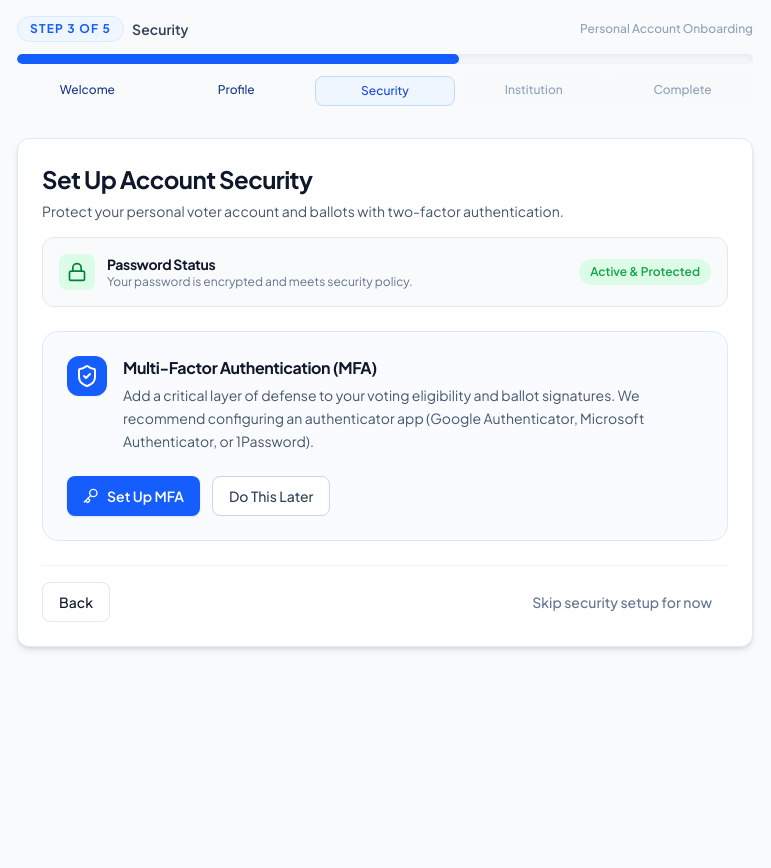
PersonalOnboardingPage Multi-Step Wizard › handles MFA authenticator setup and verification in Step 3
The image size is (771, 868).
Expected: the heading "Set Up Account Security" is shown, [42,164,312,194]
Click the button "Set Up MFA" at (134, 496), box [67,476,200,516]
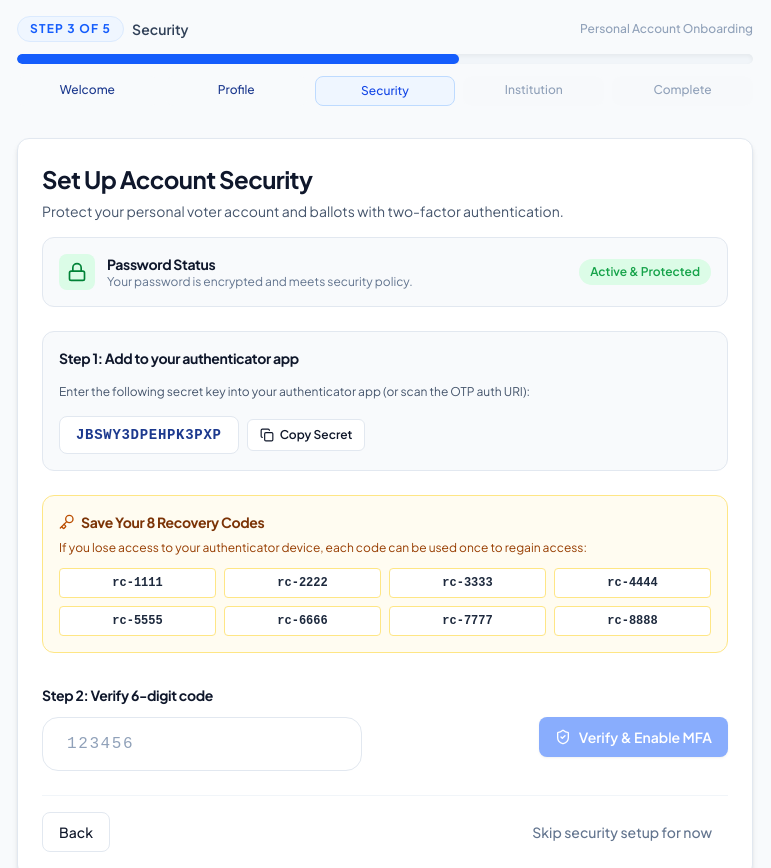
Result: the text "JBSWY3DPEHPK3PXP" is shown at [59,416,239,454]
Result: the text "rc-1111" is shown at [59,568,216,598]
Result: the text "rc-8888" is shown at [554,606,711,636]
Type "654321" into the field with placeholder "123456" at (202, 744), box [42,717,362,771]
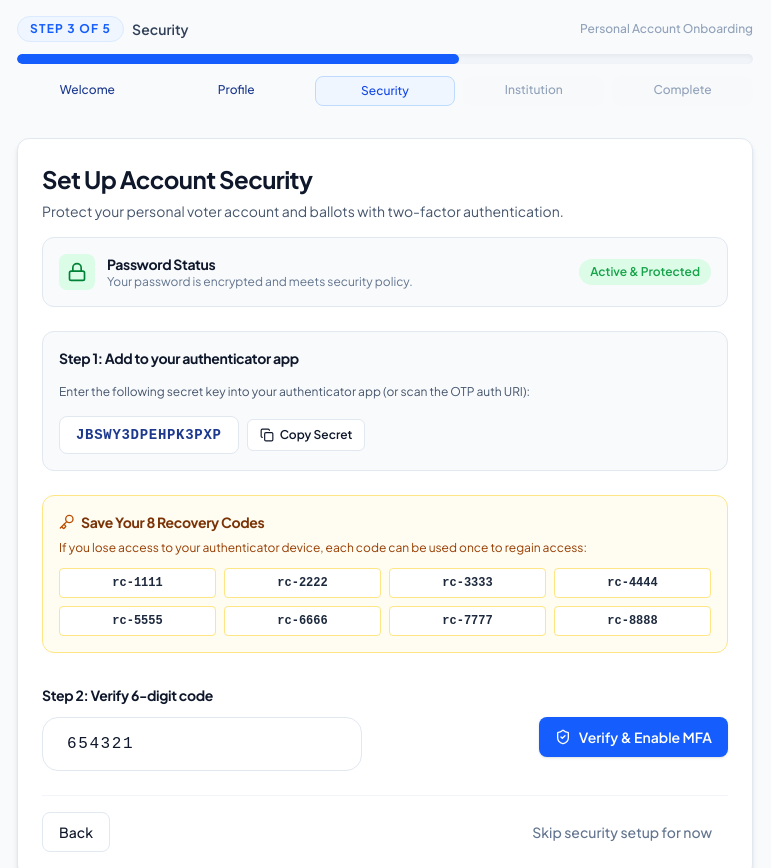
Click the button "Verify & Enable MFA" at (633, 737), box [539,717,728,757]
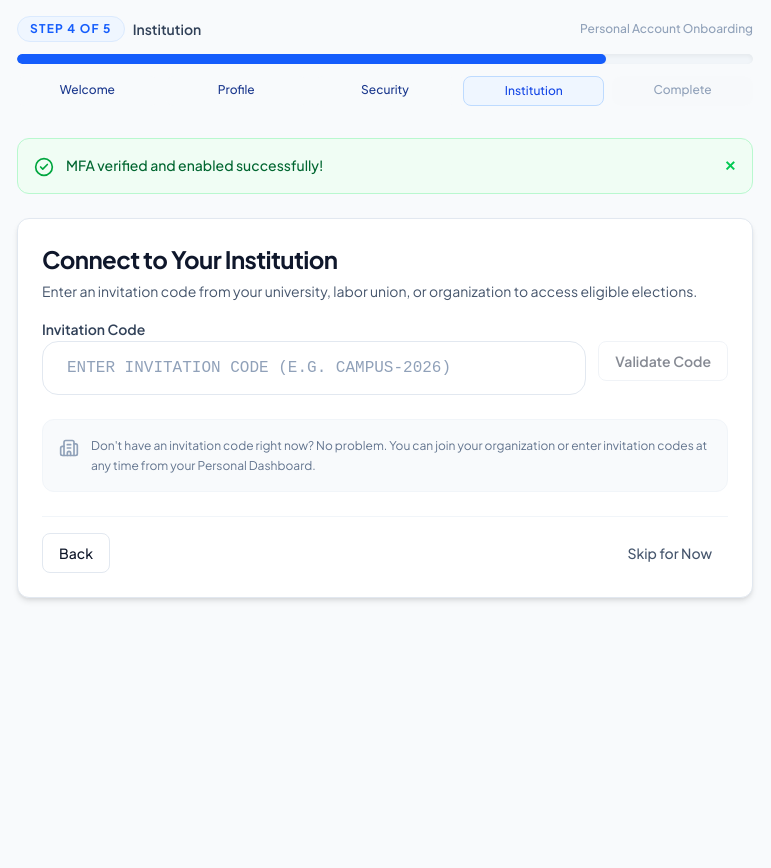
Result: the heading "Connect to Your Institution" is shown at [42,244,337,274]
